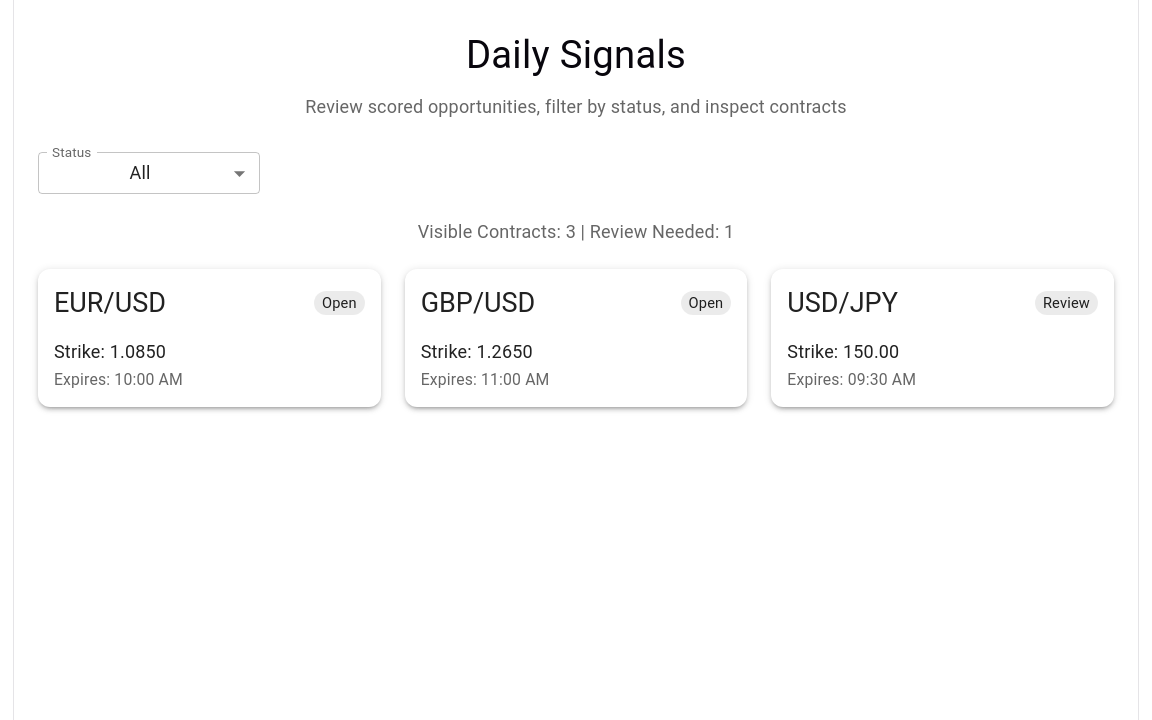
DailySignals › status filter reduces visible cards
Expected: the heading "EUR/USD" is shown, [54,286,166,322]
Press the mouse on the dropdown at (140, 173), box [130,162,150,183]
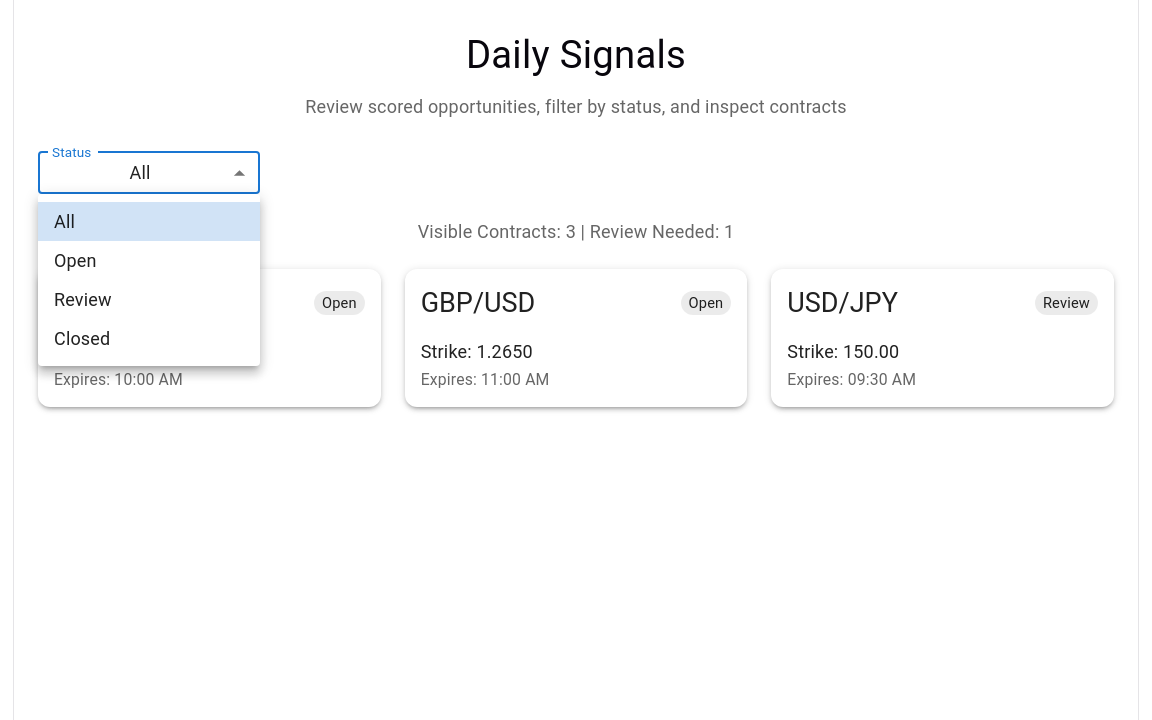
Click the option "Open" at (75, 260), box [54,250,97,271]
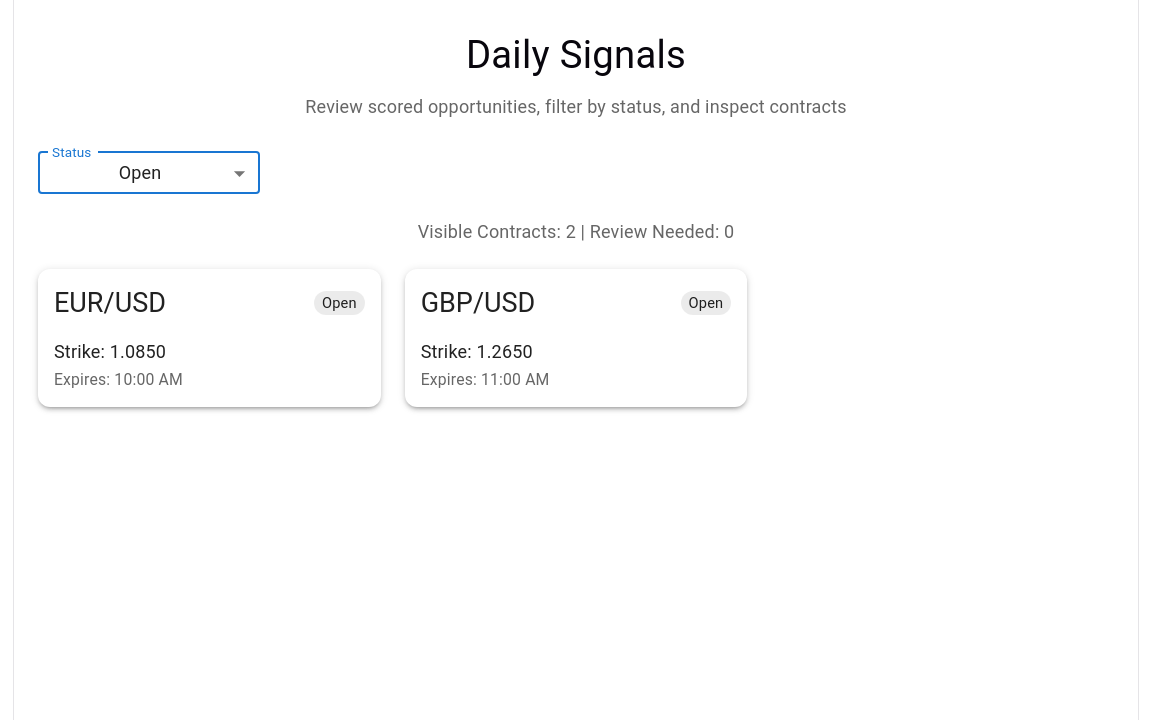
Expected: the heading "EUR/USD" is shown, [54,286,166,322]
Expected: the link "USD/JPY" is gone
